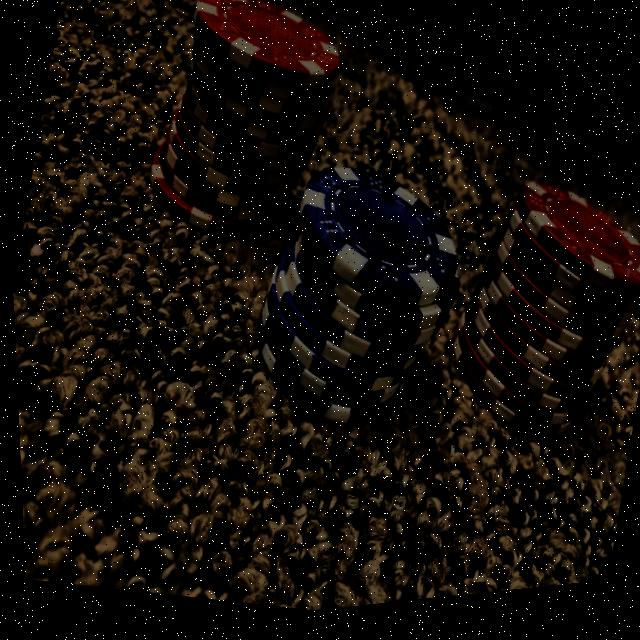Chip: (197, 130, 493, 460), (405, 169, 640, 485), (119, 0, 358, 263)
